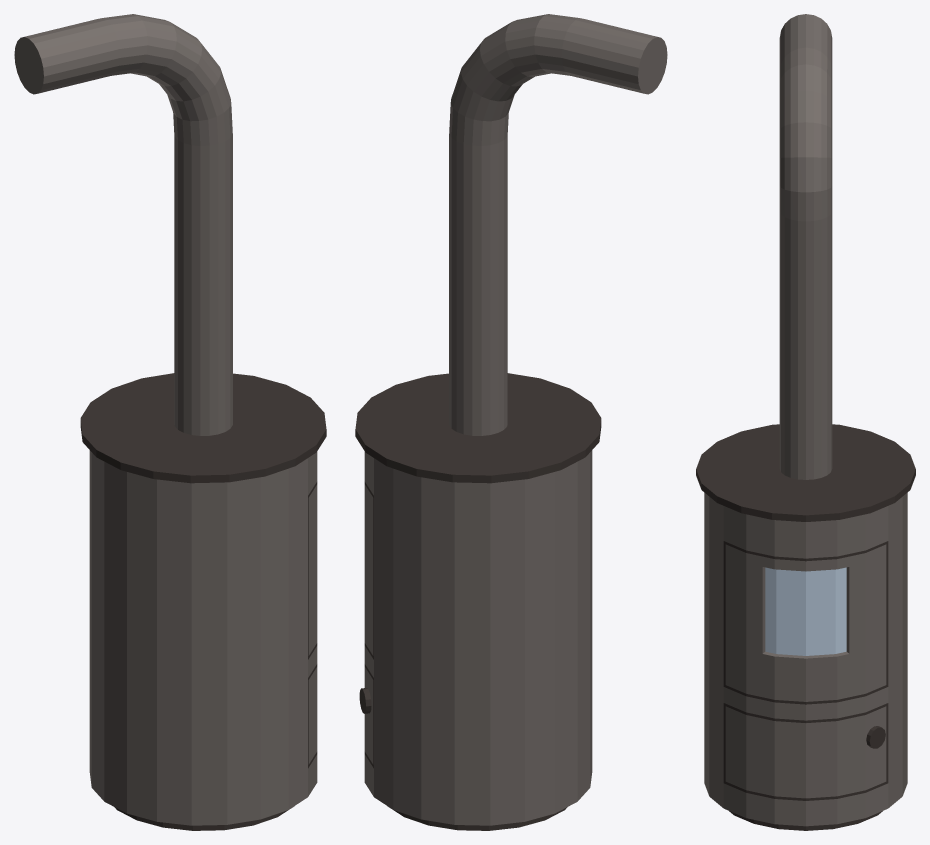
Rendered from 1301 Stove.obj.
3 views of the same model, side by side, from view 1: azimuth 30°, elevation 25°; view 2: azimuth 150°, elevation 25°; view 3: azimuth 270°, elevation 25° (orthographic). The views are drawn at different scales.
Visible parts, largest first — view 1: Stove; view 2: Stove; view 3: Stove.
Part boxes in pixels (box(x1,y1,x2,y2)): Stove: box(14, 14, 326, 830); Stove: box(355, 14, 667, 830); Stove: box(696, 14, 915, 830).
Bounding box in the file's own units: 48.87 × 132 × 37.2.
1 material, 1 textured.
